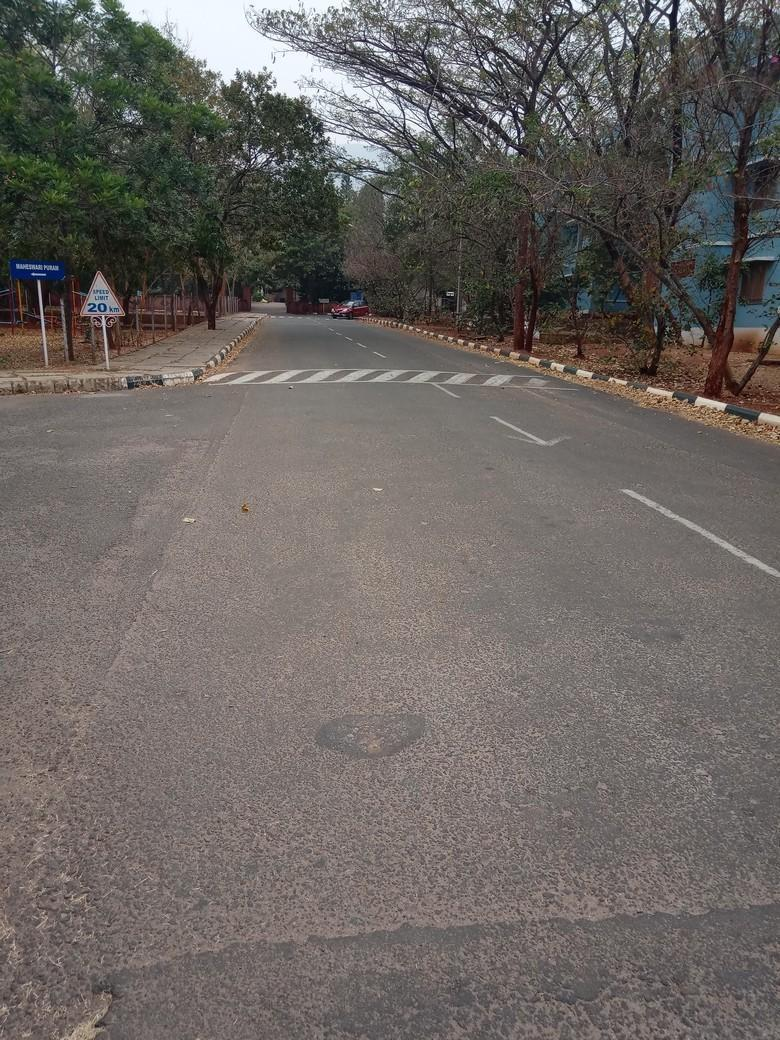speedbreaker: (213, 360, 580, 395)
